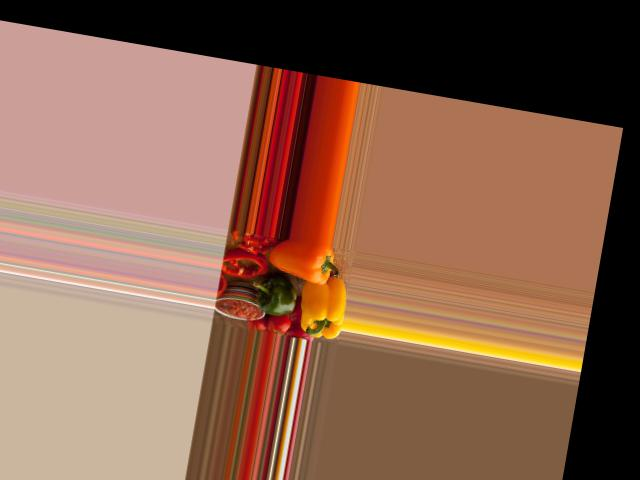bell_pepper: (294, 282, 347, 340)
